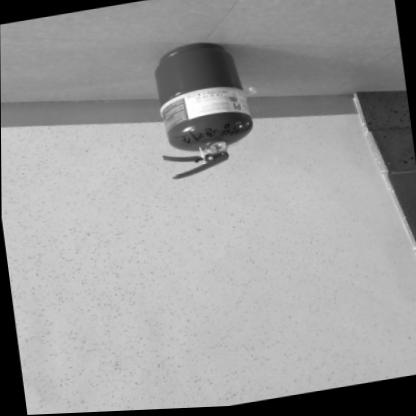FE: (146, 36, 257, 182)
